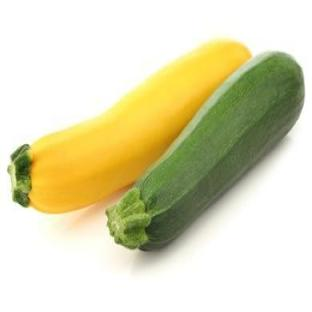Zucchini: (9, 40, 250, 213), (107, 52, 303, 249)
